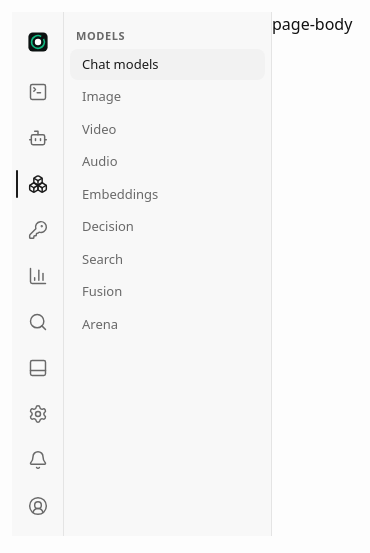
Test: clicking the active activity icon toggles the sidebar
What coordinates should you click on to do the following:
click the link named "Models"
I would click on:
 (32, 184)
Its box is [16,170,48,198].
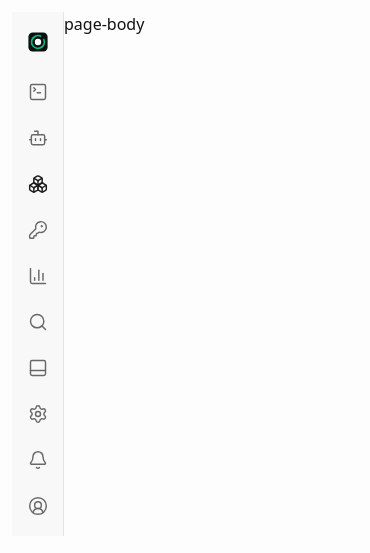
Result: the text "Arena" is gone
